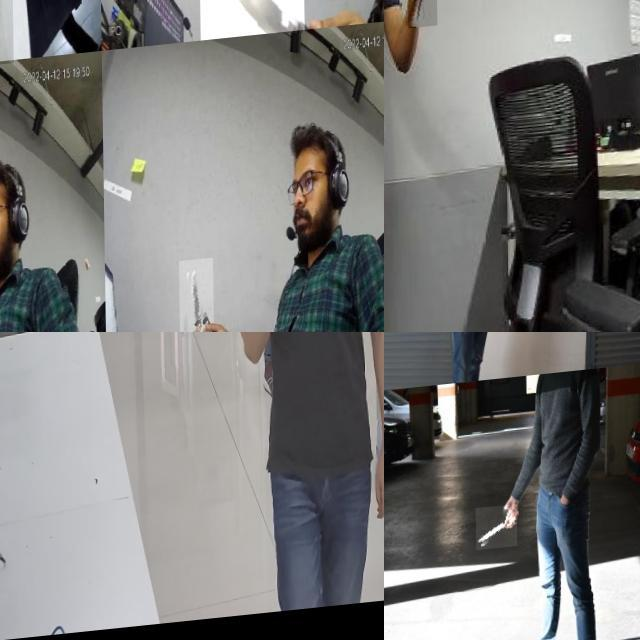-: (0, 0, 66, 141), (197, 0, 303, 74), (177, 267, 212, 332), (474, 515, 516, 560), (406, 0, 436, 41), (0, 295, 16, 332), (384, 492, 393, 531), (384, 354, 391, 398), (499, 332, 526, 342)
gun-knife-thesis - v11 Yolov5 augmented: (250, 332, 294, 403)
